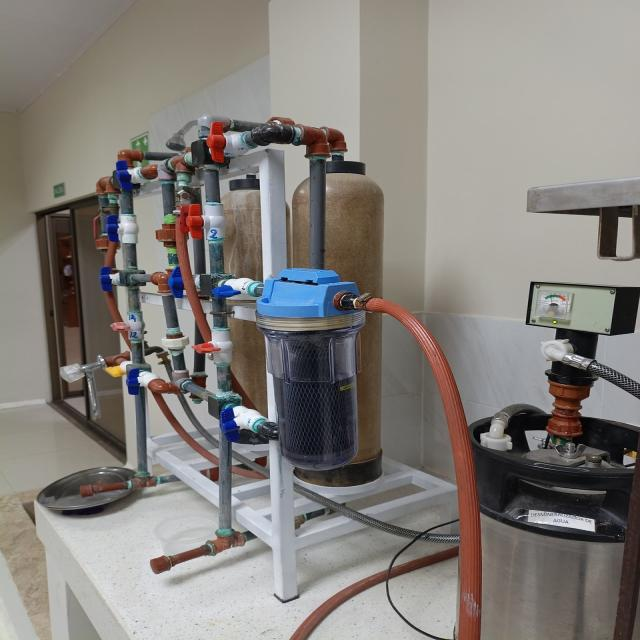Sistema de Tratamiento y Desionizacion deAgua: (61, 115, 479, 640)
